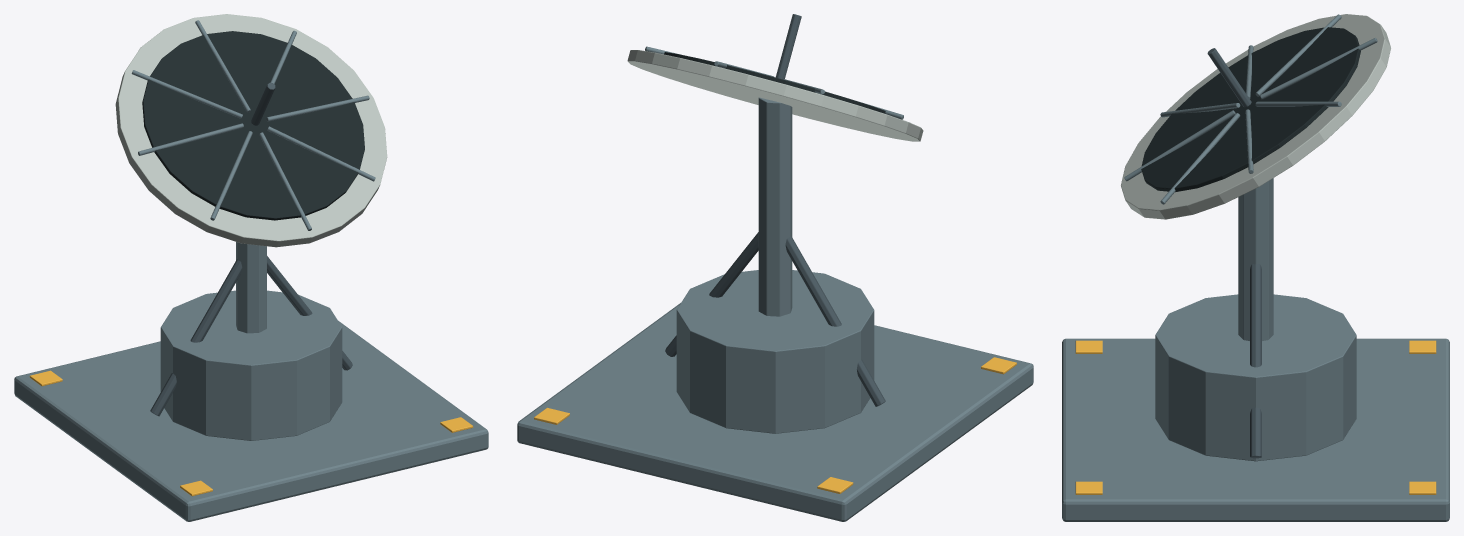
Rendered from command_comms_d0.glb.
3 renders of one model, left to right at view 1: azimuth 30°, elevation 25°; view 2: azimuth 150°, elevation 25°; view 3: azimuth 270°, elevation 25°, orthographic. The views are drawn at different scales.
Visible parts, largest first — view 1: Foundation.020, Receiver recess, Azimuth pedestal, Dish reflector, Relay mast, Mast stabilizer, Mast stabilizer.001, Dish rib.003, Dish rib.007, Dish rib.004, Dish rib.006; view 2: Foundation.020, Azimuth pedestal, Relay mast, Dish reflector, Mast stabilizer, Mast stabilizer.001, Receiver recess, Feed horn; view 3: Foundation.020, Azimuth pedestal, Receiver recess, Dish reflector, Relay mast, Mast stabilizer.001, Feed horn, Dish rib.002, Dish rib.006, Dish rib.007, Dish rib.003, Dish rib.001.
Part boxes in pixels (x1=…): Foundation.020: x1=14, y1=320, x2=488, y2=521; Receiver recess: x1=142, y1=31, x2=364, y2=220; Azimuth pedestal: x1=160, y1=290, x2=342, y2=440; Dish reflector: x1=115, y1=14, x2=387, y2=247; Relay mast: x1=236, y1=242, x2=266, y2=333; Mast stabilizer: x1=150, y1=259, x2=242, y2=416; Mast stabilizer.001: x1=267, y1=256, x2=352, y2=370; Dish rib.003: x1=131, y1=70, x2=242, y2=118; Dish rib.007: x1=267, y1=126, x2=375, y2=181; Dish rib.004: x1=138, y1=123, x2=243, y2=155; Dish rib.006: x1=259, y1=132, x2=311, y2=230; Foundation.020: x1=517, y1=303, x2=1033, y2=521; Azimuth pedestal: x1=676, y1=270, x2=874, y2=433; Relay mast: x1=758, y1=97, x2=792, y2=316; Dish reflector: x1=627, y1=50, x2=923, y2=141; Mast stabilizer: x1=785, y1=236, x2=885, y2=406; Mast stabilizer.001: x1=665, y1=232, x2=758, y2=356; Receiver recess: x1=664, y1=52, x2=885, y2=113; Feed horn: x1=775, y1=14, x2=801, y2=79; Foundation.020: x1=1062, y1=338, x2=1449, y2=521; Azimuth pedestal: x1=1155, y1=294, x2=1356, y2=461; Receiver recess: x1=1141, y1=27, x2=1360, y2=192; Dish reflector: x1=1121, y1=14, x2=1390, y2=219; Relay mast: x1=1238, y1=178, x2=1273, y2=340; Mast stabilizer.001: x1=1250, y1=264, x2=1261, y2=458; Feed horn: x1=1207, y1=48, x2=1251, y2=107; Dish rib.002: x1=1260, y1=38, x2=1377, y2=99; Dish rib.006: x1=1124, y1=110, x2=1235, y2=181; Dish rib.007: x1=1160, y1=113, x2=1240, y2=204; Dish rib.003: x1=1255, y1=14, x2=1341, y2=96; Dish rib.001: x1=1255, y1=101, x2=1341, y2=106.
Bounding box in the file's own units: 5 × 5.74 × 5.
